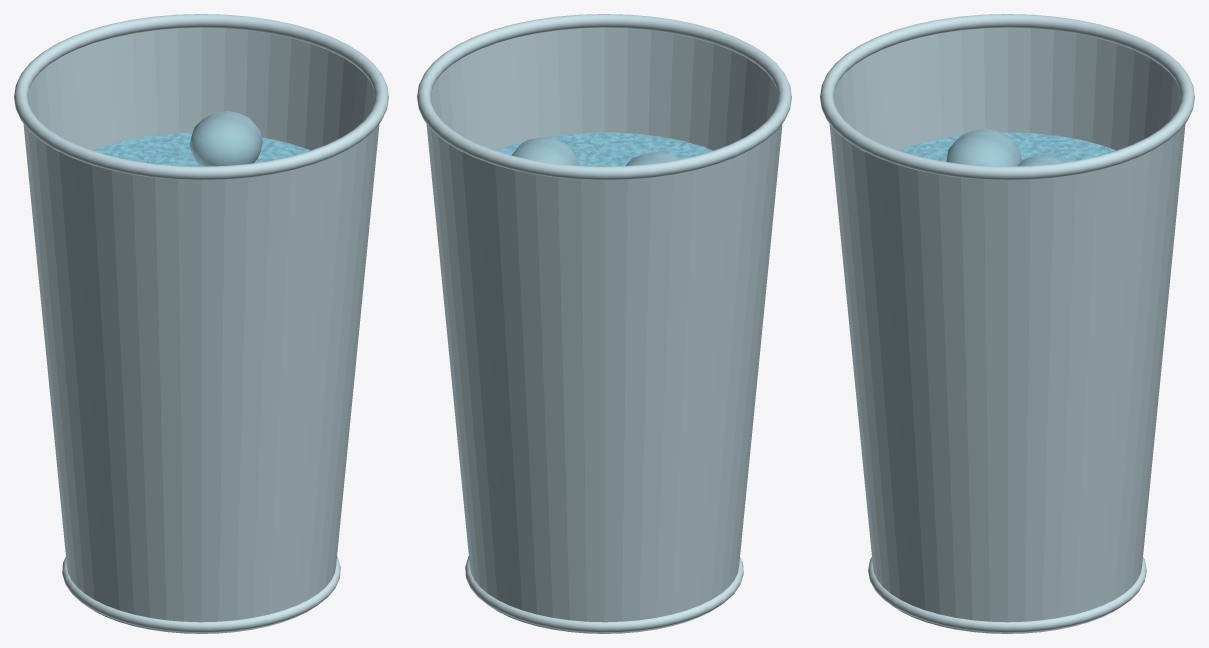
Rendered from agua-sin-gas.glb.
The picture shows the model from 3 angles, left to right: view 1: azimuth 30°, elevation 25°; view 2: azimuth 150°, elevation 25°; view 3: azimuth 270°, elevation 25°; orthographic projection.
Visible parts, largest first — view 1: glass, ice, water; view 2: glass, water, ice; view 3: glass, water, ice.
Boxes of the visible parts, x1=… form: glass: x1=14, y1=14, x2=388, y2=633; ice: x1=189, y1=111, x2=262, y2=166; water: x1=92, y1=132, x2=310, y2=166; glass: x1=417, y1=14, x2=791, y2=633; water: x1=495, y1=132, x2=713, y2=166; ice: x1=512, y1=137, x2=681, y2=165; glass: x1=820, y1=14, x2=1194, y2=633; water: x1=898, y1=132, x2=1116, y2=165; ice: x1=946, y1=128, x2=1064, y2=166.
Size of the model in its own units: 0.191 by 0.2735 by 0.191.
Materials: 3 (3 with a texture image).
